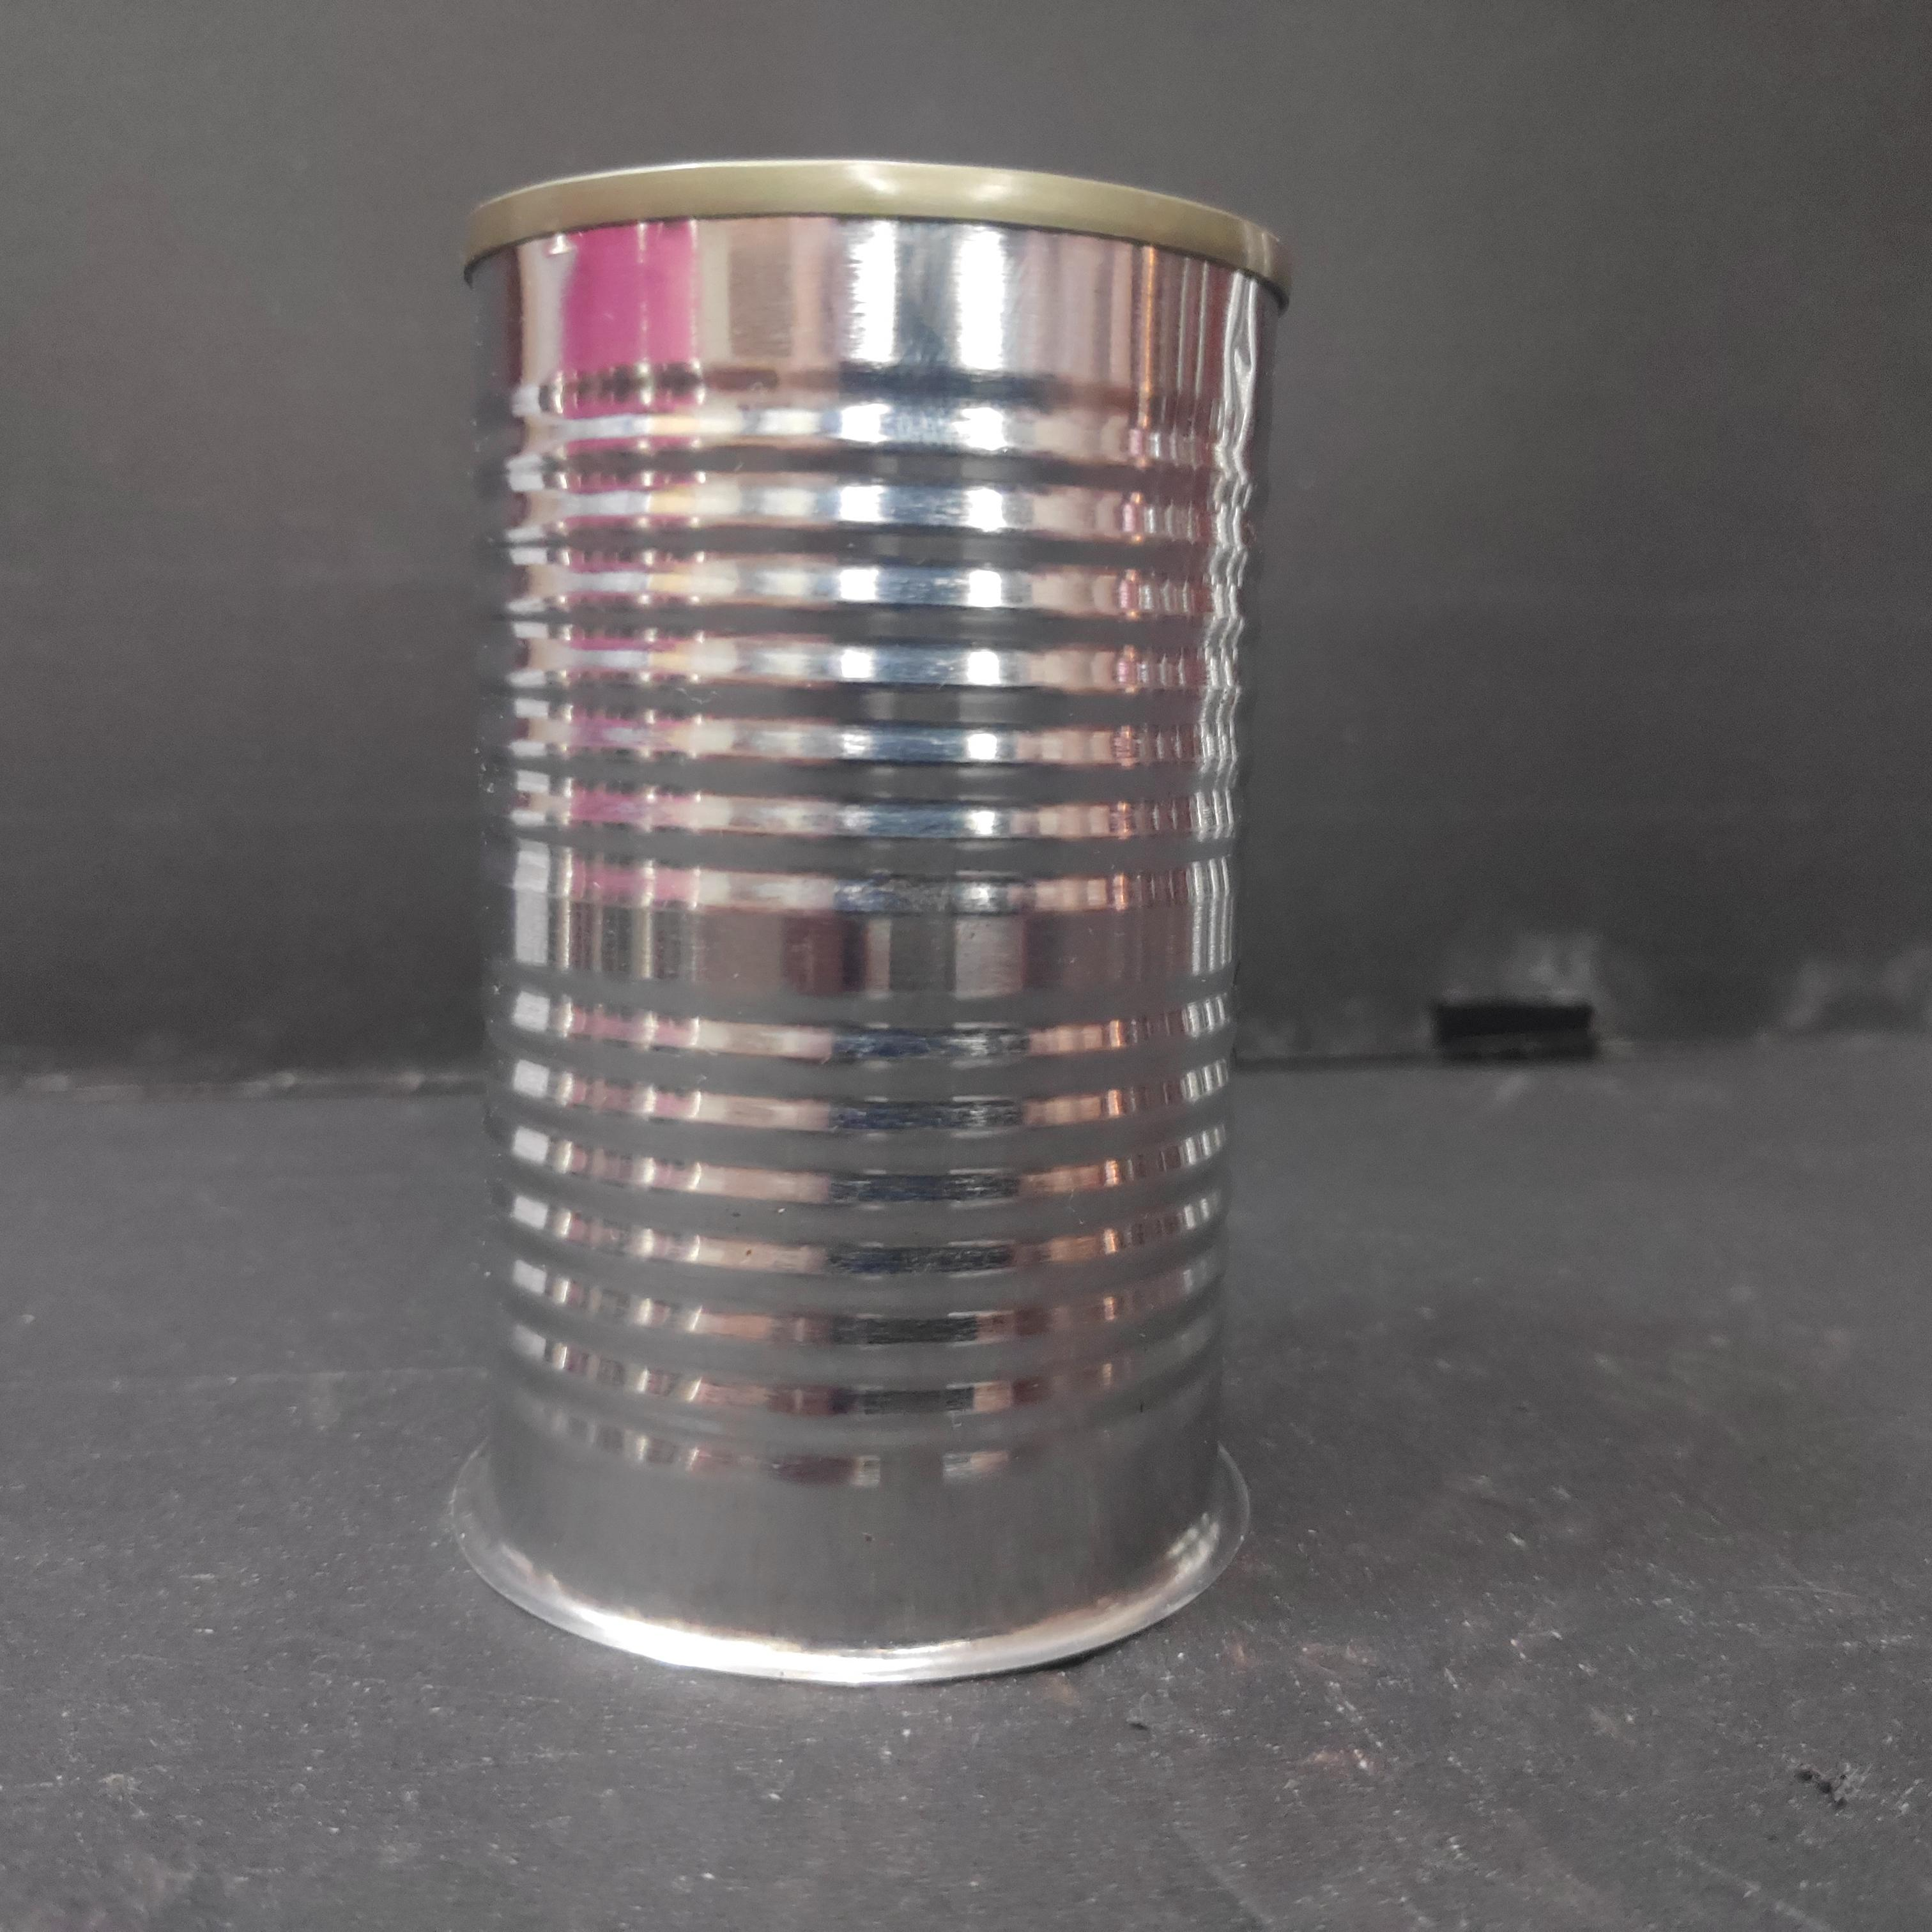No defect: (444, 147, 1301, 1689)
